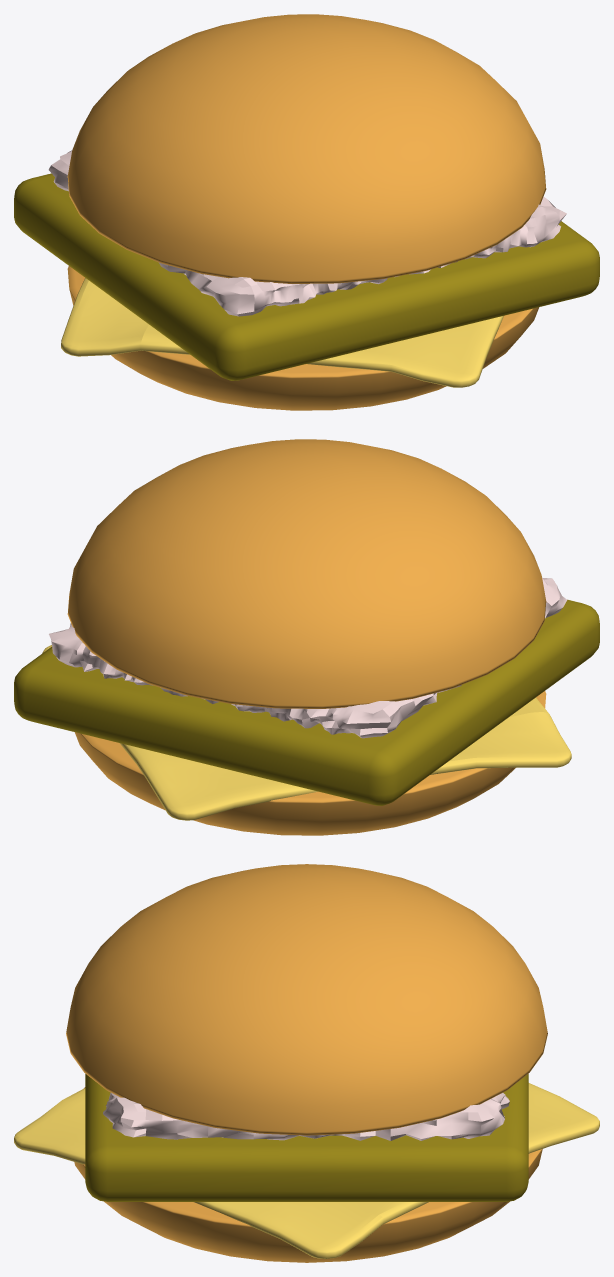
Rendered from uploads_files_4044152_burger.fbx.
3 views of the same model, one above another, from view 1: azimuth 30°, elevation 25°; view 2: azimuth 150°, elevation 25°; view 3: azimuth 270°, elevation 25° (orthographic).
Parts seen in each view (by area): view 1: Sphere, Roundcube, Sphere.001, Roundcube.001, Roundcube.002; view 2: Sphere, Roundcube, Sphere.001, Roundcube.001, Roundcube.002; view 3: Sphere, Roundcube, Roundcube.001, Sphere.001, Roundcube.002.
Part boxes in pixels (x1=…): Sphere: x1=67, y1=14, x2=546, y2=283; Roundcube: x1=14, y1=173, x2=599, y2=380; Sphere.001: x1=67, y1=266, x2=539, y2=410; Roundcube.001: x1=61, y1=278, x2=503, y2=387; Roundcube.002: x1=48, y1=150, x2=566, y2=316; Sphere: x1=67, y1=439, x2=546, y2=708; Roundcube: x1=14, y1=599, x2=599, y2=805; Sphere.001: x1=74, y1=691, x2=546, y2=835; Roundcube.001: x1=42, y1=645, x2=571, y2=820; Roundcube.002: x1=49, y1=578, x2=566, y2=738; Sphere: x1=66, y1=864, x2=547, y2=1135; Roundcube: x1=85, y1=1074, x2=528, y2=1201; Roundcube.001: x1=14, y1=1083, x2=599, y2=1258; Sphere.001: x1=74, y1=1087, x2=542, y2=1262; Roundcube.002: x1=103, y1=1093, x2=509, y2=1140.
Bounding box in the file's own units: 265 × 152 × 265.
